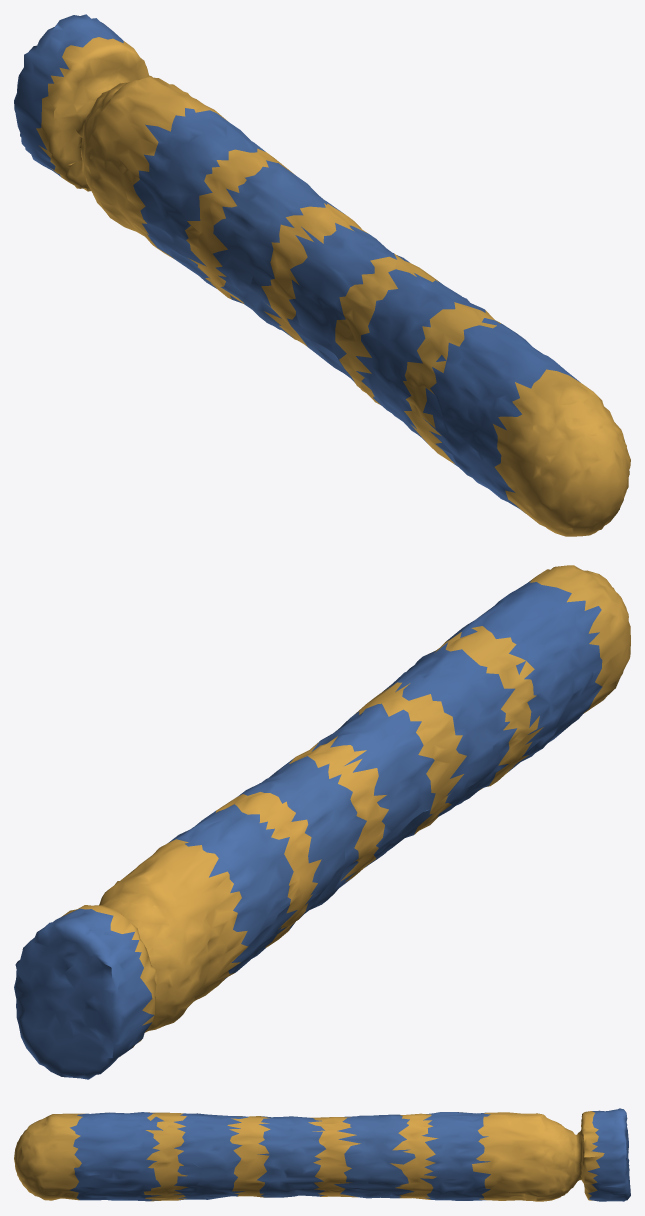
Rendered from den_sock_b.glb.
The picture shows the model from 3 angles, top to bottom: view 1: azimuth 30°, elevation 25°; view 2: azimuth 150°, elevation 25°; view 3: azimuth 270°, elevation 25°; orthographic projection. The views are drawn at different scales.
Parts seen in each view (by area): view 1: den_sock_b; view 2: den_sock_b; view 3: den_sock_b.
Part boxes in pixels (bbox=[...]): den_sock_b: bbox=[14, 14, 630, 536]; den_sock_b: bbox=[14, 565, 630, 1079]; den_sock_b: bbox=[14, 1108, 630, 1201].
Size of the model in its own units: 2.85 by 3.66 by 23.82.
